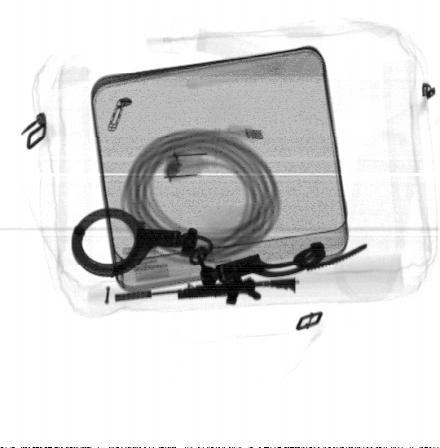Gun: (111, 275, 299, 307)
HandCuffs: (69, 206, 371, 288)
